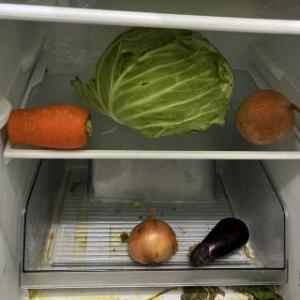cabbage: (71, 26, 236, 142)
carrot: (6, 102, 92, 148)
eggplant: (189, 217, 251, 269)
onion: (234, 87, 300, 147), (128, 207, 178, 267)
